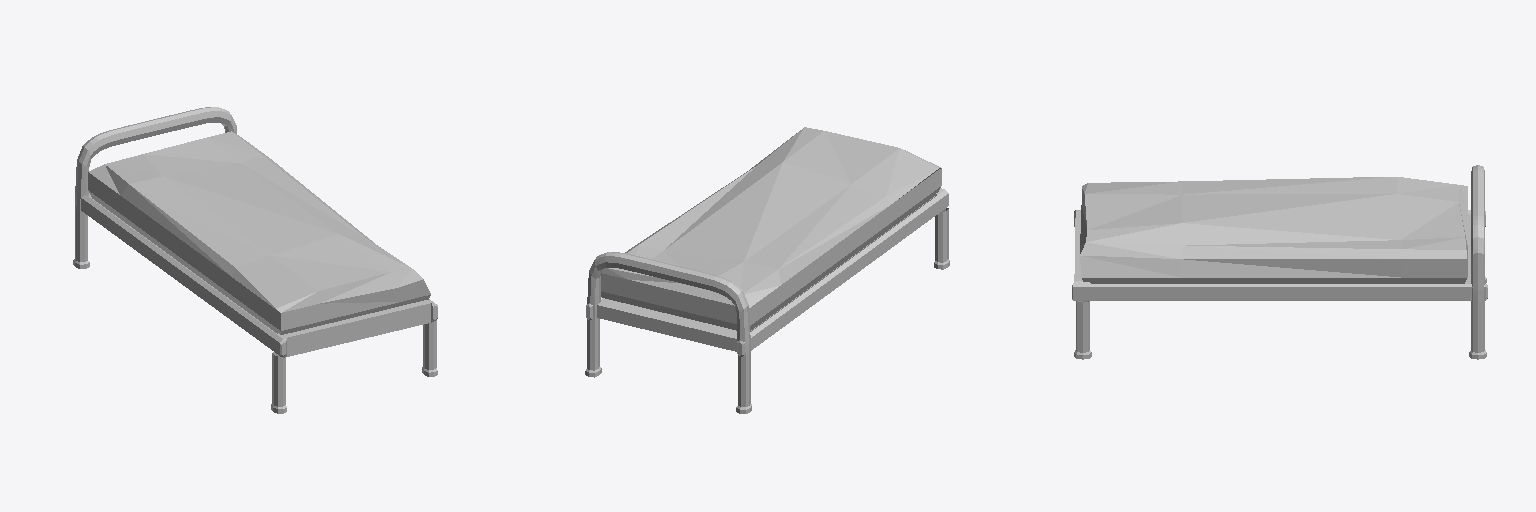
File: realsize_bed.obj
The picture shows the model from 3 angles: view 1: azimuth 30°, elevation 25°; view 2: azimuth 150°, elevation 25°; view 3: azimuth 270°, elevation 25°; orthographic projection.
Parts seen in each view (by area): view 1: matress, Metal_Bed; view 2: matress, Metal_Bed; view 3: matress, Metal_Bed.
Boxes of the visible parts, box(x1,y1,x2,y2) form: matress: box(88, 131, 430, 334); Metal_Bed: box(73, 107, 437, 413); matress: box(601, 127, 941, 330); Metal_Bed: box(585, 188, 949, 413); matress: box(1080, 177, 1467, 283); Metal_Bed: box(1072, 165, 1487, 359).
Bounding box in the file's own units: 1.02 × 0.7632 × 2.25.